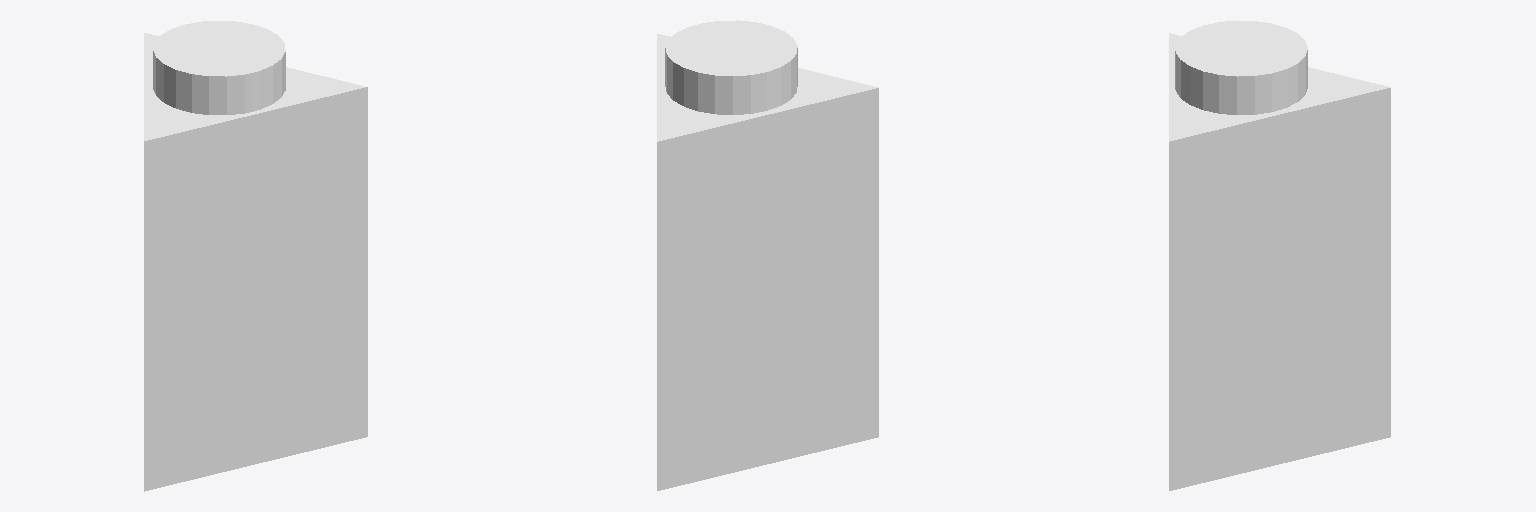
URDF robot description (triangle):
<?xml version="1.0" encoding="utf-8"?>
<!-- This URDF was automatically created by SolidWorks to URDF Exporter! Originally created by Stephen Brawner (brawner@gmail.com) 
     Commit Version: 1.6.0-4-g7f85cfe  Build Version: 1.6.7995.38578
     For more information, please see http://wiki.ros.org/sw_urdf_exporter -->
<robot
  name="triangle">
  <link
    name="base_link">
    <inertial>
      <origin
        xyz="3.87930533505533E-18 0.0237762924063683 -0.000149935526426381"
        rpy="0 0 0" />
      <mass
        value="0.0184804739704161" />
      <inertia
        ixx="4.19272271013181E-06"
        ixy="-1.78188804383999E-22"
        ixz="-5.61594305609112E-23"
        iyy="1.34363170205471E-06"
        iyz="-3.53645258397095E-09"
        izz="4.19270035949889E-06" />
    </inertial>
    <visual>
      <origin
        xyz="0 0 0"
        rpy="0 0 0" />
      <geometry>
        <mesh
          filename="package://triangle/meshes/base_link.STL" />
      </geometry>
      <material
        name="">
        <color
          rgba="1 1 1 1" />
      </material>
    </visual>
    <collision>
      <origin
        xyz="0 0 0"
        rpy="0 0 0" />
      <geometry>
        <mesh
          filename="package://triangle/meshes/base_link.STL" />
      </geometry>
    </collision>
  </link>
</robot>

--- What the picture shows (computed from the rendered views, not written in the file) ---
Views: 3 orthographic renders of the robot side by side, from view 1: azimuth 30°, elevation 25°; view 2: azimuth 150°, elevation 25°; view 3: azimuth 270°, elevation 25°.
Robot: triangle — 1 links, 0 joints (none); root link base_link; default pose: all joints at 0.
Visible links, largest first — view 1: base_link; view 2: base_link; view 3: base_link.
Boxes of the visible links, box(x1,y1,x2,y2) form: base_link: box(144, 21, 367, 491); base_link: box(657, 20, 878, 490); base_link: box(1169, 20, 1390, 490).
Size in the robot's own frame: 0.03 by 0.026 by 0.05 metres.
1 mesh visuals loaded from 1 distinct referenced files (1 binary STL).
